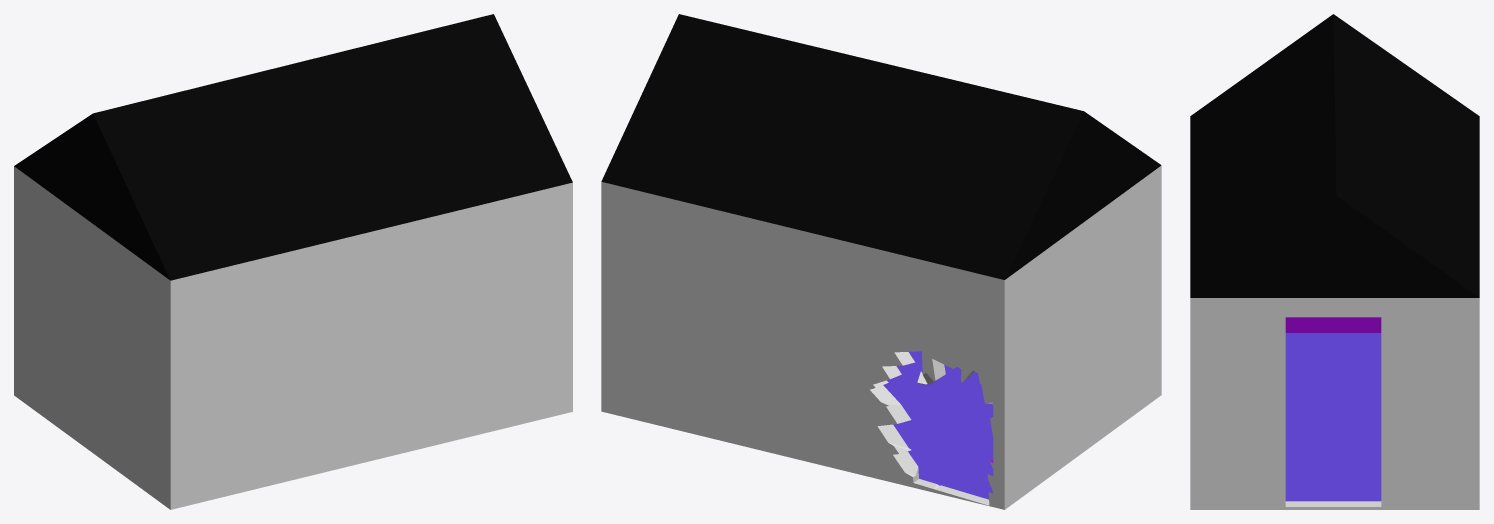
Rendered from Shed.fbx.
3 views of the same model, side by side, from view 1: azimuth 30°, elevation 25°; view 2: azimuth 150°, elevation 25°; view 3: azimuth 270°, elevation 25° (orthographic). The views are drawn at different scales.
Parts seen in each view (by area): view 1: Shed; view 2: Shed; view 3: Shed.
Boxes of the visible parts, x1=… form: Shed: x1=14, y1=14, x2=572, y2=509; Shed: x1=601, y1=14, x2=1161, y2=509; Shed: x1=1190, y1=14, x2=1479, y2=509.
Size of the model in its own units: 277 by 223 by 186.
